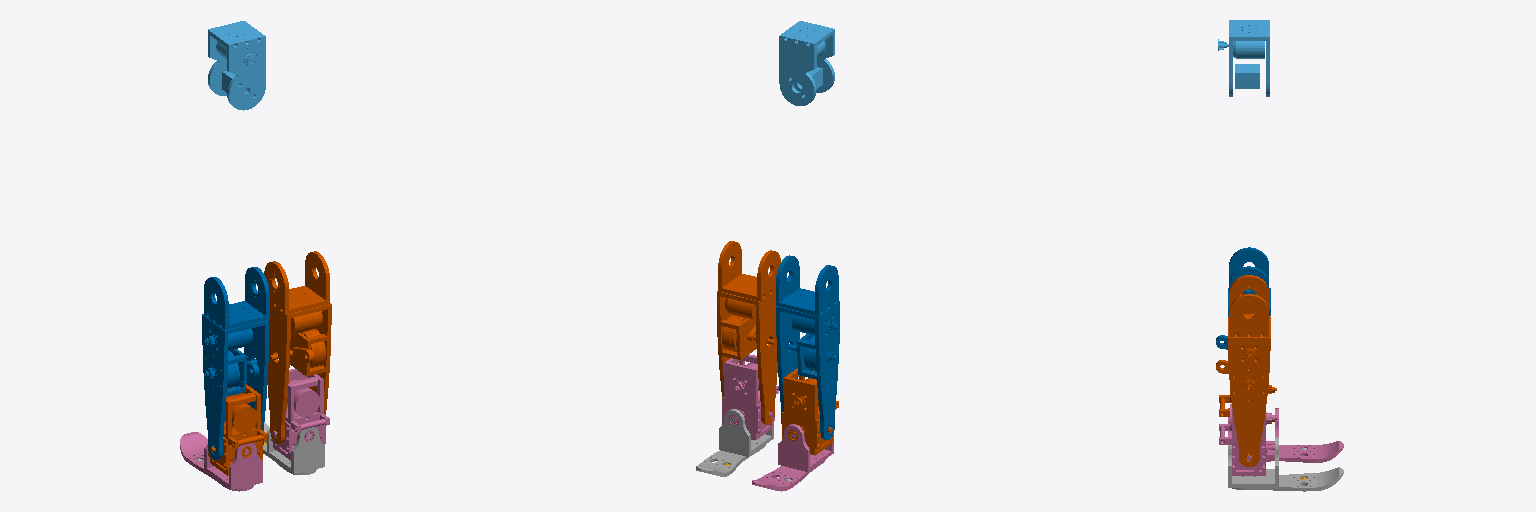
The robot description file, URDF, robot "huron":
<?xml version="1.0" ?>

<robot name="huron" xmlns:xacro="http://ros.org/wiki/xacro">

  <!-- Right leg -->
  
  <link name="base_link"/>
  
  <joint name="base_fixed" type="fixed">
    <origin rpy="0 0 0" xyz="0 0 1.0279"/>
    <parent link="base_link"/>
    <child link="base_footprint"/>
  </joint>

  <!-- base_link -->
  
  <link name="base_footprint">
    <inertial>
      <origin rpy="0 0 0" xyz="0 0 0.0026975"/>
      <mass value="3.4072"/>
      <inertia ixx="0.00319" ixy="0" ixz="0" iyy="0.010531" iyz="0" izz="0.012315"/>
    </inertial>
    <visual>
      <origin rpy="0 0 0" xyz="0 0 0"/>
      <geometry>
        <mesh filename="meshes/base_link.STL" scale="1 1 1"/>
      </geometry>
    </visual>
    <!-- <collision>
      <origin rpy="0 0 0" xyz="0 0 0"/>
      <geometry>
        <mesh filename="meshes/base_link.STL" scale="1 1 1"/>
      </geometry> -->
    <!-- </collision> -->
  </link>
  
  <!-- right hip yaw joint -->

  <joint name="r_hip_yaw_joint" type="revolute">
    <origin rpy="0 0 3.141592654" xyz="0.0774999999999944 0 -0.1451242"/>
    <parent link="base_footprint"/>
    <child link="r_hip_yaw_link"/>
    <axis xyz="0 0 1"/>
    <limit effort="1000" lower="-3.1416" upper="3.1416" velocity="3"/>
    <!--<dynamics damping="0.5" friction="5"/>-->
  </joint>
  
  <transmission name="r_hip_yaw_joint_tran">
    <type>transmission_interface/SimpleTransmission</type>
    <joint name="r_hip_yaw_joint">
      <hardwareInterface>hardware_interface/EffortJointInterface</hardwareInterface>
    </joint>
    <actuator name="r_hip_yaw_joint_motor">
      <hardwareInterface>EffortJointInterface</hardwareInterface>
      <mechanicalReduction>1</mechanicalReduction>
    </actuator>
  </transmission>
  
  <!-- right hip yaw link -->
  
  <link name="r_hip_yaw_link">
    <visual>
      <origin rpy="0 0 0" xyz="0 0 0"/>
      <geometry>
        <mesh filename="meshes/r_hip_yaw_link.STL" scale="1 1 1"/>
      </geometry>
    </visual>
    <!-- <collision>
      <origin rpy="0 0 0" xyz="0 0 0"/>
      <geometry>
        <mesh filename="meshes/r_hip_yaw_link.STL" scale="1 1 1"/>
      </geometry>
    </collision> -->
    <inertial>
      <origin rpy="0 0 0" xyz="0.0006244 0.00052023 0.063505"/>
      <mass value="1.6968"/>
      <inertia ixx="0.0022729" ixy="-5.6517E-10" ixz="6.6464E-06" iyy="0.0026746" iyz="5.6889E-09" izz="0.0012354"/>
    </inertial>
  </link>
  
  <!-- right hip roll joint-->
  
  <joint name="r_hip_roll_joint" type="revolute">
    <origin rpy="1.570796327 0 0" xyz="0 0 0"/>
    <parent link="r_hip_yaw_link"/>
    <child link="r_hip_roll_link"/>
    <axis xyz="0 0 1"/>
    <limit effort="1000" lower="-0.5236" upper="0.01" velocity="3"/>
    <!--<dynamics damping="0.5" friction="5"/>-->
  </joint>
  
  <transmission name="r_hip_roll_joint_tran">
    <type>transmission_interface/SimpleTransmission</type>
    <joint name="r_hip_roll_joint">
      <hardwareInterface>hardware_interface/EffortJointInterface</hardwareInterface>
    </joint>
    <actuator name="r_hip_roll_joint_motor">
      <hardwareInterface>EffortJointInterface</hardwareInterface>
      <mechanicalReduction>1</mechanicalReduction>
    </actuator>
  </transmission>
  
  <!-- right hip roll link -->
  
  <link name="r_hip_roll_link">
    <visual>
      <origin rpy="0 0 0" xyz="0 0 0"/>
      <geometry>
        <mesh filename="meshes/r_hip_roll_link.STL" scale="1 1 1"/>
      </geometry>
    </visual>
    <inertial>
      <origin rpy="0 0 0" xyz="-0.07196 0.0061152 -0.00052563"/>
      <mass value="1.1884"/>
      <inertia ixx="0.00098222" ixy="9.8947E-08" ixz="9.2484E-09" iyy="0.00097045" iyz="9.7414E-08" izz="0.00092365"/>
    </inertial>
  </link>

  <!-- right hip pitch joint -->

  <joint name="r_hip_pitch_joint" type="revolute">
    <origin rpy="-1.570796327 0 -1.570796327" xyz="0 0 0"/>
    <parent link="r_hip_roll_link"/>
    <child link="r_hip_pitch_link"/>
    <axis xyz="0 0 1"/>
    <limit effort="1000" lower="-1.2217" upper="1.2217" velocity="3"/>
    <!--<dynamics damping="0.5" friction="5"/>-->
  </joint>

  <transmission name="r_hip_pitch_joint_tran">
    <type>transmission_interface/SimpleTransmission</type>
    <joint name="r_hip_pitch_joint">
      <hardwareInterface>hardware_interface/EffortJointInterface</hardwareInterface>
    </joint>
    <actuator name="r_hip_pitch_joint_motor">
      <hardwareInterface>EffortJointInterface</hardwareInterface>
      <mechanicalReduction>1</mechanicalReduction>
    </actuator>
  </transmission>

  <!-- right hip pitch link -->

  <link name="r_hip_pitch_link">
    <visual>
      <origin rpy="0 0 0" xyz="0 0 0"/>
      <geometry>
        <mesh filename="meshes/r_hip_pitch_link.STL" scale="1 1 1"/>
      </geometry>
    </visual>
    <inertial>
      <origin rpy="0 0 0" xyz="0.26753 4.9957E-05 -0.053132"/>
      <mass value="4.2544"/>
      <inertia ixx="0.0034501" ixy="-2.7593E-09" ixz="-0.0019797" iyy="0.010035" iyz="2.5351E-10" izz="0.01009"/>
    </inertial>
  </link>

  <!-- right knee pitch joint -->

  <joint name="r_knee_pitch_joint" type="revolute">
    <origin rpy="0 0 0" xyz="0.512778478308813 4.99999999867273E-05 -1.66647320091612E-05"/>
    <parent link="r_hip_pitch_link"/>
    <child link="r_knee_pitch_link"/>
    <axis xyz="0 0 1"/>
    <limit effort="1000" lower="-1.570796327" upper="1.570796327" velocity="3"/>
    <!--<dynamics damping="0.5" friction="5"/>-->
  </joint>

  <transmission name="r_knee_pitch_joint_tran">
    <type>transmission_interface/SimpleTransmission</type>
    <joint name="r_knee_pitch_joint">
      <hardwareInterface>hardware_interface/EffortJointInterface</hardwareInterface>
    </joint>
    <actuator name="r_knee_pitch_joint_motor">
      <hardwareInterface>EffortJointInterface</hardwareInterface>
      <mechanicalReduction>1</mechanicalReduction>
    </actuator>
  </transmission>

  <!-- right knee pitch link -->

  <link name="r_knee_pitch_link">
    <visual>
      <origin rpy="0 0 0" xyz="0 0 0"/>
      <geometry>
        <mesh filename="meshes/r_knee_pitch_link.STL" scale="1 1 1"/>
      </geometry>
    </visual>
    <inertial>
      <origin rpy="0 0 0" xyz="0.13396 0.00063335 -0.00486"/>
      <mass value="3.4875"/>
      <inertia ixx="0.0064812" ixy="1.2949E-05" ixz="2.8064E-05" iyy="0.019762" iyz="-1.0389E-05" izz="0.017354"/>
    </inertial>
  </link>

  <!-- right ankle pitch joint -->

  <joint name="r_ankle_pitch_joint" type="revolute">
    <origin rpy="0 0 0.0" xyz="0.370000000000006 -3.16358749707368E-05 -0.00249999999999943"/>
    <parent link="r_knee_pitch_link"/>
    <child link="r_ankle_pitch_link"/>
    <axis xyz="0 0 1"/>
    <limit effort="1000" lower="-0.5236" upper="0.1745" velocity="3"/>
    <!--<dynamics damping="0.5" friction="2.0"/>-->
  </joint>

  <transmission name="r_ankle_pitch_joint_tran">
    <type>transmission_interface/SimpleTransmission</type>
    <joint name="r_ankle_pitch_joint">
      <hardwareInterface>hardware_interface/EffortJointInterface</hardwareInterface>
    </joint>
    <actuator name="r_ankle_pitch_joint_motor">
      <hardwareInterface>EffortJointInterface</hardwareInterface>
      <mechanicalReduction>1</mechanicalReduction>
    </actuator>
  </transmission>

  <!-- right ankle pitch link -->

  <link name="r_ankle_pitch_link">
    <visual>
      <origin rpy="0 0 0" xyz="0 0 0"/>
      <geometry>
        <mesh filename="meshes/r_ankle_pitch_link.STL" scale="1 1 1"/>
      </geometry>
    </visual>
    <inertial>
      <origin rpy="0 0 0" xyz="-0.029867 0.001045 0.000556"/>
      <mass value="2.4242"/>
      <inertia ixx="0.0025143" ixy="-0.00025651" ixz="1.5321E-12" iyy="0.0045125" iyz="9.9589E-10" izz="0.0049235"/>
    </inertial>
  </link>

  <!-- right ankle roll joint -->

  <joint name="r_ankle_roll_joint" type="revolute">
    <origin rpy="1.570796327 0 0" xyz="0 0 0"/>
    <parent link="r_ankle_pitch_link"/>
    <child link="r_ankle_roll_link"/>
    <axis xyz="0 0 1"/>
    <limit effort="1000" lower="-0.3491" upper="0.3491" velocity="3"/>
    <!-- <dynamics damping="0.5" friction="2.0"/> -->
  </joint>

  <transmission name="r_ankle_roll_joint_tran">
    <type>transmission_interface/SimpleTransmission</type>
    <joint name="r_ankle_roll_joint">
      <hardwareInterface>hardware_interface/EffortJointInterface</hardwareInterface>
    </joint>
    <actuator name="r_ankle_roll_joint_motor">
      <hardwareInterface>EffortJointInterface</hardwareInterface>
      <mechanicalReduction>1</mechanicalReduction>
    </actuator>
  </transmission>

  <!-- right ankle roll link -->

  <link name="r_ankle_roll_link">
    <visual>
      <origin rpy="0 0 0" xyz="0 0 0"/>
      <geometry>
        <mesh filename="meshes/r_ankle_roll_link.STL" scale="1 1 1"/>
      </geometry>
    </visual>
    <inertial>
      <origin rpy="0 0 0" xyz="0.073422 7.2094E-05 0.063933"/>
      <mass value="1.8533"/>
      <inertia ixx="0.0086813" ixy="1.0356E-05" ixz="0.00024346" iyy="0.0084051" iyz="-0.00012301" izz="0.0013018"/>
    </inertial>
  </link>
  
  <!-- right force sensor fixed joint 1 -->

  <joint name="r_foot_sensor_1_fixed" type="fixed">
    <origin rpy="-0.0095317 0.011124 1.5707" xyz="0.098271 0.014348 0.12788"/>
    <parent link="r_ankle_roll_link"/>
    <child link="r_foot_sensor_1"/>
  </joint> -->

  <!-- right foot ft link 1 -->

  <link name="r_foot_sensor_1">
    <visual>
      <origin rpy=" 0 0 0" xyz="0 0 0"/>
      <geometry>
        <mesh filename="meshes/r_foot_ft.STL" scale="1 1 1"/>
      </geometry>
    </visual>
    <collision>
      <origin rpy=" 0 0 0" xyz="0 0 0"/>
      <geometry>
        <mesh filename="meshes/r_foot_ft.STL" scale="1 1 1"/>
      </geometry>
    </collision>
    <inertial>
      <origin rpy="0 0 0" xyz="-8.7899E-06 0.0048383 -9.7784E-08"/>
      <mass value="0.0086322"/>
      <inertia ixx="3.8994E-07" ixy="-3.4931E-10" ixz="5.2655E-10" iyy="5.8221E-07" iyz="-3.8859E-12" izz="3.4261E-07"/>
    </inertial>
  </link>

  <!-- Foot base

  <link name="r_foot_base_link">
    <visual>
      <origin rpy="0 0 0" xyz="0 0 0"/>
      <geometry>
        <box size="0.078 0.005 0.221"/>
      </geometry>
    </visual>
    <collision>
      <origin rpy="0 0 0" xyz="0 0 0"/>
      <geometry>
        <box size="0.078 0.005 0.221"/>
      </geometry>
    </collision>
    <inertial>
      <origin rpy="0 0 0" xyz="0 0 0"/>
      <mass value="0.01"/>
      <inertia ixx="2.162166667E-05" ixy="0" ixz="0" iyy="2.545416667E-05" iyz="0" izz="3.874166667E-06"/>
    </inertial>
  </link>

  <joint name="r_foot_base_fixed" type="fixed">
    <origin rpy="0 0 0" xyz="-0.0175 -0.0025 -0.06395"/>
    <parent link="r1_foot_ft_link"/>
    <child link="r_foot_base_link"/>
  </joint> -->

  <!-- LEFT FOOT -->

  <!-- left hip yaw joint -->

  <joint name="l_hip_yaw_joint" type="revolute">
    <origin rpy="0 0 -0.0" xyz="-0.0775 0 -0.14512"/>
    <parent link="base_footprint"/>
    <child link="l_hip_yaw_link"/>
    <axis xyz="0 0 1"/>
    <limit effort="1000" lower="-3.1416" upper="3.1416" velocity="3"/>
    <!-- <dynamics damping="0.5" friction="5"/> -->
  </joint>

  <transmission name="l_hip_yaw_joint_tran">
    <type>transmission_interface/SimpleTransmission</type>
    <joint name="l_hip_yaw_joint">
      <hardwareInterface>hardware_interface/EffortJointInterface</hardwareInterface>
    </joint>
    <actuator name="l_hip_yaw_joint_motor">
      <hardwareInterface>EffortJointInterface</hardwareInterface>
      <mechanicalReduction>1</mechanicalReduction>
    </actuator>
  </transmission>

  <!-- left hip yaw link -->

  <link name="l_hip_yaw_link">
    <visual>
      <origin rpy="0 0 0" xyz="0 0 0"/>
      <geometry>
        <mesh filename="meshes/l_hip_yaw_link.STL" scale="1 1 1"/>
      </geometry>
    </visual>
    <inertial>
      <origin rpy="0 0 0" xyz="0.00063365 -0.00053469 0.063496"/>
      <mass value="1.6968"/>
      <inertia ixx="0.0022702" ixy="-2.5061E-10" ixz="6.6464E-06" iyy="0.0026746" iyz="-5.1468E-09" izz="0.001238"/>
    </inertial>
  </link>

  <!-- left hip roll joint-->

  <joint name="l_hip_roll_joint" type="revolute">
    <origin rpy="1.570796327 0 3.141592654" xyz="0 0 0"/>
    <parent link="l_hip_yaw_link"/>
    <child link="l_hip_roll_link"/>
    <axis xyz="0 0 1"/>
    <limit effort="1000" lower="-0.01" upper="0.5236" velocity="3"/>
    <!-- <dynamics damping="0.5" friction="5"/> -->
  </joint>

  <transmission name="l_hip_roll_joint_tran">
    <type>transmission_interface/SimpleTransmission</type>
    <joint name="l_hip_roll_joint">
      <hardwareInterface>hardware_interface/EffortJointInterface</hardwareInterface>
    </joint>
    <actuator name="l_hip_roll_joint_motor">
      <hardwareInterface>EffortJointInterface</hardwareInterface>
      <mechanicalReduction>1</mechanicalReduction>
    </actuator>
  </transmission>

  <!-- left hip roll link -->

  <link name="l_hip_roll_link">
    <visual>
      <origin rpy="0 0 0" xyz="0 0 0"/>
      <geometry>
        <mesh filename="meshes/l_hip_roll_link.STL" scale="1 1 1"/>
      </geometry>
    </visual>
    <inertial>
      <origin rpy="0 0 0" xyz="0.07196 0.0061153 -0.0005211"/>
      <mass value="1.1884"/>
      <inertia ixx="0.00098222" ixy="-9.9265E-08" ixz="4.9766E-09" iyy="0.00097045" iyz="-9.7282E-08" izz="0.00092365"/>
    </inertial>
  </link>

  <!-- left hip pitch joint -->

  <joint name="l_hip_pitch_joint" type="revolute">
    <origin rpy="-1.570796327 0 -1.570796327" xyz="0 0 0"/>
    <parent link="l_hip_roll_link"/>
    <child link="l_hip_pitch_link"/>
    <axis xyz="0 0 1"/>
    <limit effort="1000" lower="-1.2217" upper="1.2217" velocity="3"/>
    <!-- <dynamics damping="0.5" friction="5"/> -->
  </joint>

  <transmission name="l_hip_pitch_joint_tran">
    <type>transmission_interface/SimpleTransmission</type>
    <joint name="l_hip_pitch_joint">
      <hardwareInterface>hardware_interface/EffortJointInterface</hardwareInterface>
    </joint>
    <actuator name="l_hip_pitch_joint_motor">
      <hardwareInterface>EffortJointInterface</hardwareInterface>
      <mechanicalReduction>1</mechanicalReduction>
    </actuator>
  </transmission>

  <!-- left hip pitch link -->

  <link name="l_hip_pitch_link">
    <visual>
      <origin rpy="0 0 0" xyz="0 0 0"/>
      <geometry>
        <mesh filename="meshes/l_hip_pitch_link.STL" scale="1 1 1"/>
      </geometry>
    </visual>
    <inertial>
      <origin rpy="0 0 0" xyz="0.26752 4.6211E-05 0.053152"/>
      <mass value="4.2544"/>
      <inertia ixx="0.0034527" ixy="-3.1056E-08" ixz="0.0019797" iyy="0.010032" iyz="-1.4618E-10" izz="0.01009"/>
    </inertial>
  </link>

  <!-- left knee pitch joint -->

  <joint name="l_knee_pitch_joint" type="revolute">
    <origin rpy="0 0 0" xyz="0.512778478308813 5.00027201116859E-05 1.66647320003488E-05"/>
    <parent link="l_hip_pitch_link"/>
    <child link="l_knee_pitch_link"/>
    <axis xyz="0 0 1"/>
    <limit effort="1000" lower="-1.570796327" upper="1.570796327" velocity="3"/>
    <!-- <dynamics damping="0.5" friction="5"/> -->
  </joint>

  <transmission name="l_knee_pitch_joint_tran">
    <type>transmission_interface/SimpleTransmission</type>
    <joint name="l_knee_pitch_joint">
      <hardwareInterface>hardware_interface/EffortJointInterface</hardwareInterface>
    </joint>
    <actuator name="l_knee_pitch_joint_motor">
      <hardwareInterface>EffortJointInterface</hardwareInterface>
      <mechanicalReduction>1</mechanicalReduction>
    </actuator>
  </transmission>

  <!-- left knee pitch link -->

  <link name="l_knee_pitch_link">
    <visual>
      <origin rpy="0 0 0" xyz="0 0 0"/>
      <geometry>
        <mesh filename="meshes/l_knee_pitch_link.STL" scale="1 1 1"/>
      </geometry>
    </visual>
    <inertial>
      <origin rpy="0 0 0" xyz="0.13547 0.00068516 0.00486"/>
      <mass value="3.4875"/>
      <inertia ixx="0.0064814" ixy="1.2524E-05" ixz="-2.7966E-05" iyy="0.019762" iyz="1.0417E-05" izz="0.017354"/>
    </inertial>
  </link>

  <!-- left ankle pitch joint -->

  <joint name="l_ankle_pitch_joint" type="revolute">
    <origin rpy="0 0 0.0" xyz="0.3715 3.1633E-05 0.0025"/>
    <parent link="l_knee_pitch_link"/>
    <child link="l_ankle_pitch_link"/>
    <axis xyz="0 0 1"/>
    <limit effort="1000" lower="-0.5236" upper="0.1745" velocity="3"/>
    <!-- <dynamics damping="0.5" friction="2.0"/> -->
  </joint>

  <transmission name="l_ankle_pitch_joint_tran">
    <type>transmission_interface/SimpleTransmission</type>
    <joint name="l_ankle_pitch_joint">
      <hardwareInterface>hardware_interface/EffortJointInterface</hardwareInterface>
    </joint>
    <actuator name="l_ankle_pitch_joint_motor">
      <hardwareInterface>EffortJointInterface</hardwareInterface>
      <mechanicalReduction>1</mechanicalReduction>
    </actuator>
  </transmission>

  <!-- left ankle pitch link -->

  <link name="l_ankle_pitch_link">
    <visual>
      <origin rpy="0 0 0" xyz="0 0 0"/>
      <geometry>
        <mesh filename="meshes/l_ankle_pitch_link.STL" scale="1 1 1"/>
      </geometry>
    </visual>
    <!-- <collision>
      <origin rpy="0 0 0" xyz="0 0 0"/>
      <geometry>
        <mesh filename="meshes/l_ankle_pitch_link.STL" scale="1 1 1"/>
      </geometry>
    </collision> -->
    <inertial>
      <origin rpy="0 0 0" xyz="-0.029808 0.001045 3.1135E-08"/>
      <mass value="2.4242"/>
      <inertia ixx="0.0025143" ixy="-0.00025651" ixz="1.1633E-12" iyy="0.0045125" iyz="6.7196E-10" izz="0.0049235"/>
    </inertial>
  </link>

  <!-- left ankle roll pitch -->

  <joint name="l_ankle_roll_joint" type="revolute">
    <origin rpy="1.570796327 0 0" xyz="0 0 0"/>
    <parent link="l_ankle_pitch_link"/>
    <child link="l_ankle_roll_link"/>
    <axis xyz="0 0 1"/>
    <limit effort="1000" lower="-0.3491" upper="0.3491" velocity="3"/>
    <!-- <dynamics damping="0.5" friction="2.0"/> -->
  </joint>
  <transmission name="l_ankle_roll_joint_tran">
    <type>transmission_interface/SimpleTransmission</type>
    <joint name="l_ankle_roll_joint">
      <hardwareInterface>hardware_interface/EffortJointInterface</hardwareInterface>
    </joint>
    <actuator name="l_ankle_roll_joint_motor">
      <hardwareInterface>EffortJointInterface</hardwareInterface>
      <mechanicalReduction>1</mechanicalReduction>
    </actuator>
  </transmission>

  <!-- left ankle roll link -->

  <link name="l_ankle_roll_link">
    <visual>
      <origin rpy="0 0 0" xyz="0 0 0"/>
      <geometry>
        <mesh filename="meshes/l_ankle_roll_link.STL" scale="1 1 1"/>
      </geometry>
    </visual>
    <!-- <collision>
      <origin rpy="0 0 0" xyz="0 0 0"/>
      <geometry>
        <mesh filename="meshes/l_ankle_roll_link.STL" scale="1 1 1"/>
      </geometry>
    </collision> -->
    <inertial>
      <origin rpy="0 0 0" xyz="0.073422 -5.3261E-05 0.063946"/>
      <mass value="1.8533"/>
      <inertia ixx="0.008682" ixy="-1.0255E-05" ixz="0.00024351" iyy="0.0084057" iyz="0.00012332" izz="0.0013019"/>
    </inertial>
  </link>

  <!-- left foot force sensor fixed joint 1 -->

  <joint name="l_foot_sensor_1_fixed" type="fixed">
    <origin rpy="-0.024938 0.00629 1.5706" xyz="0.098328 0.020682 0.12788"/>   
    <parent link="l_ankle_roll_link"/>
    <child link="l_foot_sensor_1"/>
  </joint> -->

  <!-- left foot force sensor 1  -->
  <link name="l_foot_sensor_1">
    <visual>
      <origin rpy=" 0 0 0" xyz="0 0 0"/>
      <geometry>
        <mesh filename="meshes/r_foot_ft.STL" scale="1 1 1"/>
      </geometry>
    </visual>
     <collision>
      <origin rpy=" 0 0 0" xyz="0 0 0"/>
      <geometry>
        <mesh filename="meshes/r_foot_ft.STL" scale="1 1 1"/>
      </geometry>
    </collision>
    <inertial>
      <origin rpy="0 0 0" xyz="7.3272E-06 0.0048383 4.6103E-08"/>
      <mass value="0.0086322"/>
      <inertia ixx="3.8994E-07" ixy="2.9118E-10" ixz="2.9784E-10" iyy="5.8221E-07" iyz="1.8321E-12" izz="3.4261E-07"/>
    </inertial>
  </link>
  
  <!-- Foot base
  <link name="l_foot_base_link">
    <visual>
      <origin rpy="0 0 0" xyz="0 0 0"/>
      <geometry>
        <box size="0.078 0.005 0.221"/>
      </geometry>
    </visual>
    <collision>
      <origin rpy="0 0 0" xyz="0 0 0"/>
      <geometry>
        <box size="0.078 0.005 0.221"/>
      </geometry>
    </collision>
    <inertial>
      <origin rpy="0 0 0" xyz="0 0 0"/>
      <mass value="0.01"/>
      <inertia ixx="2.162166667E-05" ixy="0" ixz="0" iyy="2.545416667E-05" iyz="0" izz="3.874166667E-06"/>
    </inertial>
  </link>
  <joint name="l_foot_base_fixed" type="fixed">
    <origin rpy="0 0 0" xyz="-0.0175 -0.0025 -0.06395"/>
    <parent link="l1_foot_ft_link"/>
    <child link="l_foot_base_link"/>
  </joint> -->

</robot>

--- What the picture shows (computed from the rendered views, not written in the file) ---
3 views of the same robot in one strip: view 1: azimuth 30°, elevation 25°; view 2: azimuth 150°, elevation 25°; view 3: azimuth 270°, elevation 25° (orthographic).
Robot: huron — 16 links, 15 joints (12 revolute, 3 fixed); root link base_link; default pose: all joints at 0.
Visible links, largest first — view 1: l_knee_pitch_link, r_knee_pitch_link, l_hip_yaw_link, r_ankle_pitch_link, l_ankle_pitch_link, l_ankle_roll_link, r_ankle_roll_link; view 2: l_knee_pitch_link, r_knee_pitch_link, l_hip_yaw_link, r_ankle_pitch_link, l_ankle_pitch_link, l_ankle_roll_link, r_ankle_roll_link; view 3: r_knee_pitch_link, l_hip_yaw_link, r_ankle_roll_link, l_knee_pitch_link, l_ankle_roll_link, r_ankle_pitch_link.
Boxes of the visible links, box(x1,y1,x2,y2) form: l_knee_pitch_link: box(202, 267, 269, 459); r_knee_pitch_link: box(264, 251, 331, 443); l_hip_yaw_link: box(208, 21, 265, 110); r_ankle_pitch_link: box(271, 369, 329, 460); l_ankle_pitch_link: box(208, 384, 267, 475); l_ankle_roll_link: box(180, 432, 262, 491); r_ankle_roll_link: box(263, 422, 324, 474); l_knee_pitch_link: box(776, 255, 839, 439); r_knee_pitch_link: box(717, 241, 780, 424); l_hip_yaw_link: box(779, 21, 834, 105); r_ankle_pitch_link: box(722, 354, 778, 439); l_ankle_pitch_link: box(782, 368, 838, 455); l_ankle_roll_link: box(752, 424, 833, 491); r_ankle_roll_link: box(696, 409, 773, 476); r_knee_pitch_link: box(1216, 275, 1270, 466); l_hip_yaw_link: box(1218, 20, 1269, 96); r_ankle_roll_link: box(1228, 437, 1343, 491); l_knee_pitch_link: box(1216, 247, 1270, 349); l_ankle_roll_link: box(1228, 408, 1343, 462); r_ankle_pitch_link: box(1219, 404, 1276, 475).
Size in the robot's own frame: 0.323 by 0.3 by 1.11 metres.
Meshes: 14 distinct files referenced, 9 mesh visuals loaded (8 binary STL); not drawn: 6 (reference not matched to a file when rendering).